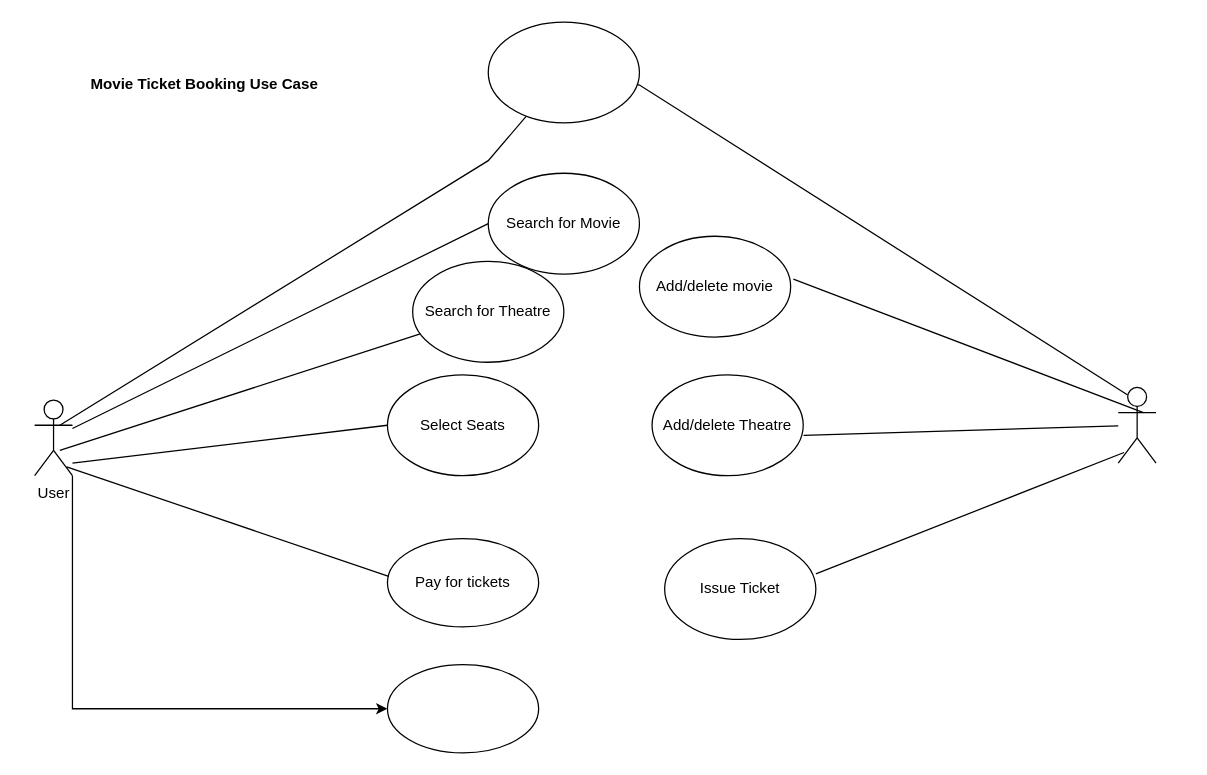
Image size: 1207x775. Some labels were removed from this diagram. The shapes that lost their labels are listed below. From the top down, each one's centre as x and y in pixels, then its label:
At pixel 563 72: "Login".
At pixel 1136 424: "System/Admin".
At pixel 462 708: "Cancel Ticket".
